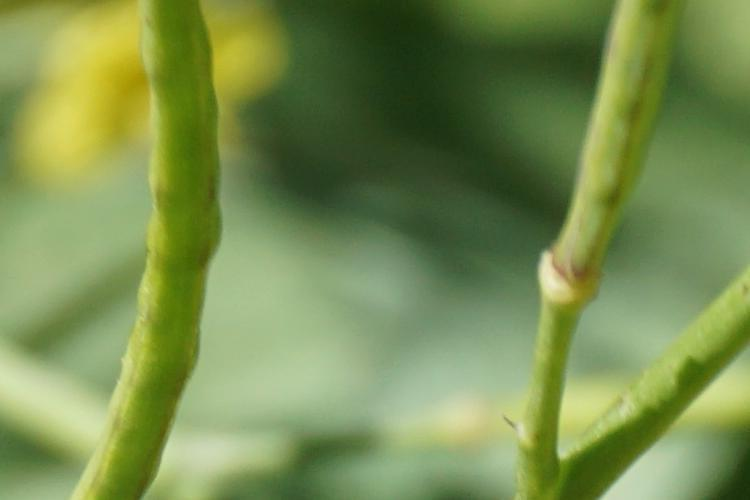pod: (545, 16, 681, 308)
